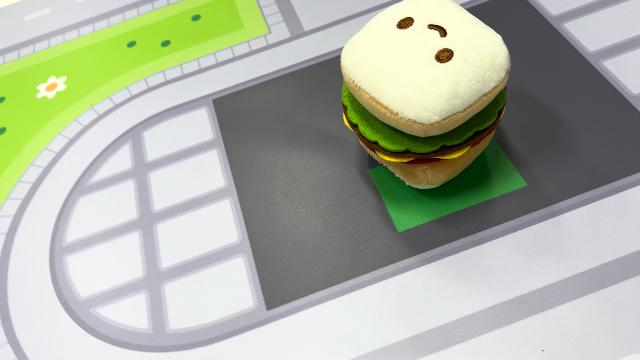sandwich: (337, 1, 513, 191)
